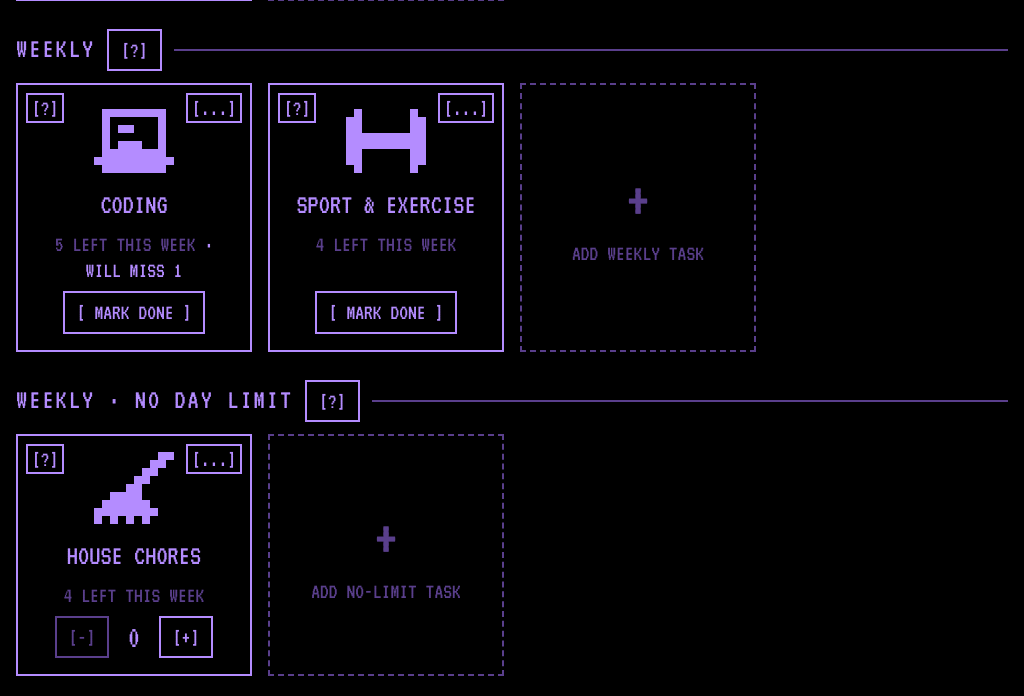
App › shows weekly remaining counts
(page scrolled)
Expected: the text "5 LEFT THIS WEEK" is shown, left=55, top=232, right=196, bottom=254
Click the button "[ MARK DONE ]" below "5 LEFT THIS WEEK" at (134, 312), box left=63, top=291, right=205, bottom=334
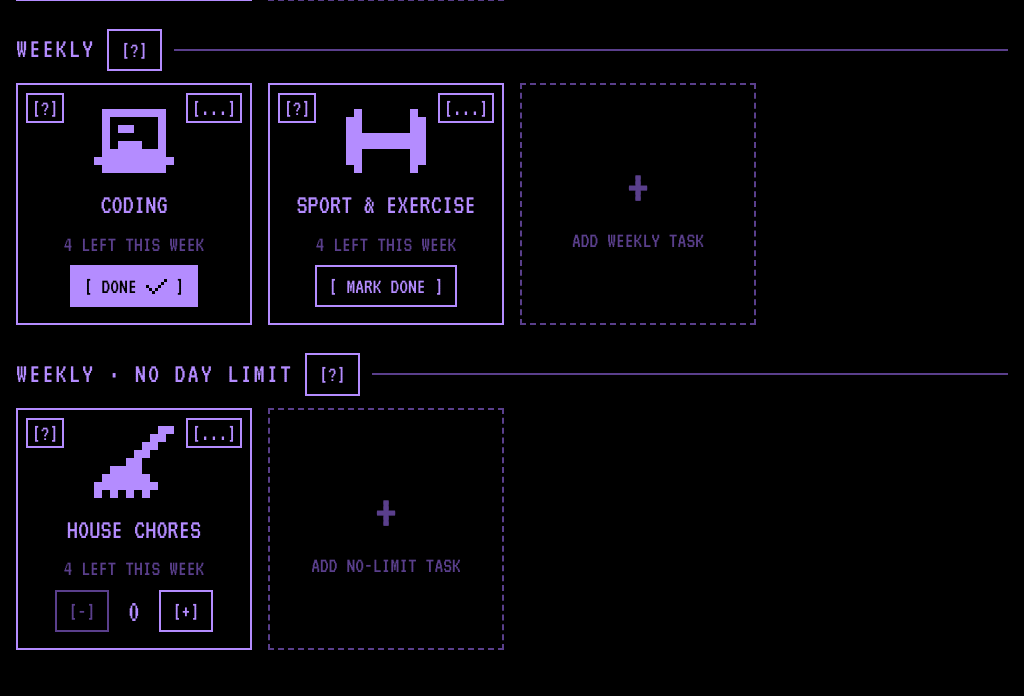
Now the text "4 LEFT THIS WEEK" below "CODING" is shown, box left=64, top=232, right=204, bottom=254
